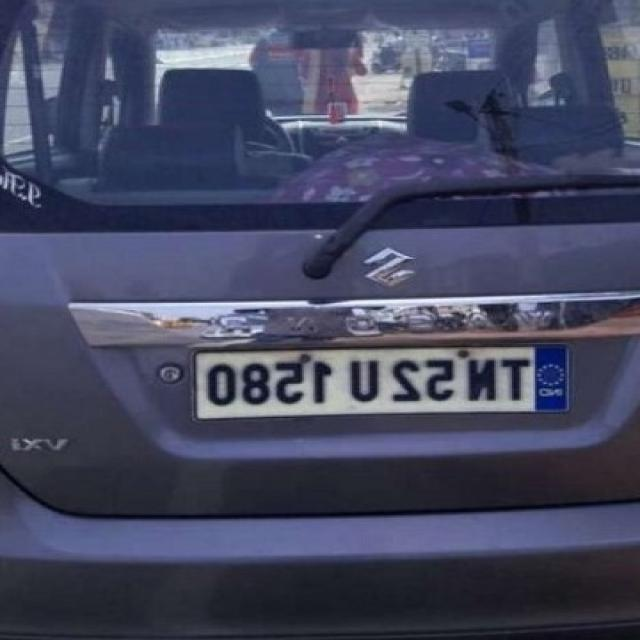number-plate: (172, 338, 570, 421)
